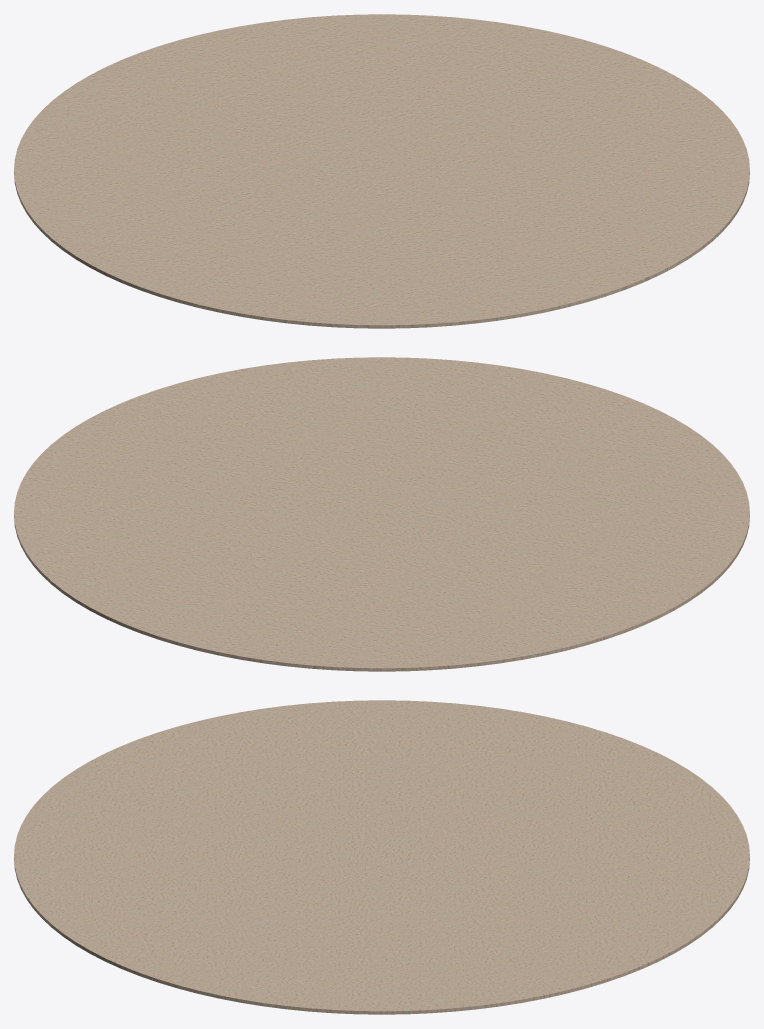
The model's file is alfombra_redonda_pelo_200.glb.
3 renders of one model, top to bottom at view 1: azimuth 30°, elevation 25°; view 2: azimuth 150°, elevation 25°; view 3: azimuth 270°, elevation 25°, orthographic.
Parts seen in each view (by area): view 1: alfombra_redonda_pelo_200; view 2: alfombra_redonda_pelo_200; view 3: alfombra_redonda_pelo_200.
Boxes of the visible parts, x1,y1,x2,y2 form: alfombra_redonda_pelo_200: [14, 14, 749, 328]; alfombra_redonda_pelo_200: [14, 357, 749, 671]; alfombra_redonda_pelo_200: [14, 700, 749, 1014].
Size of the model in its own units: 2 by 0.01 by 2.
1 material, 1 textured.
